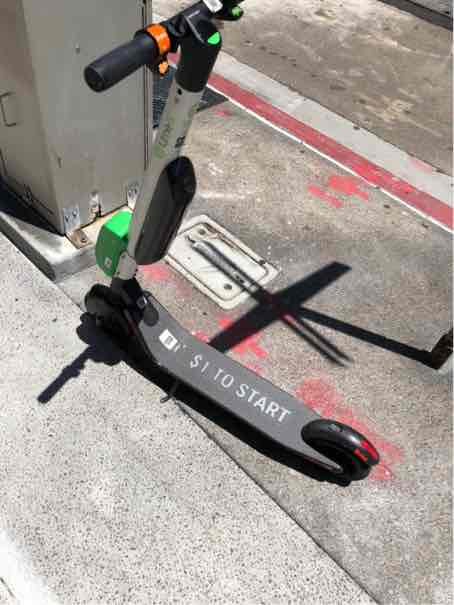scooter: (64, 1, 385, 496)
